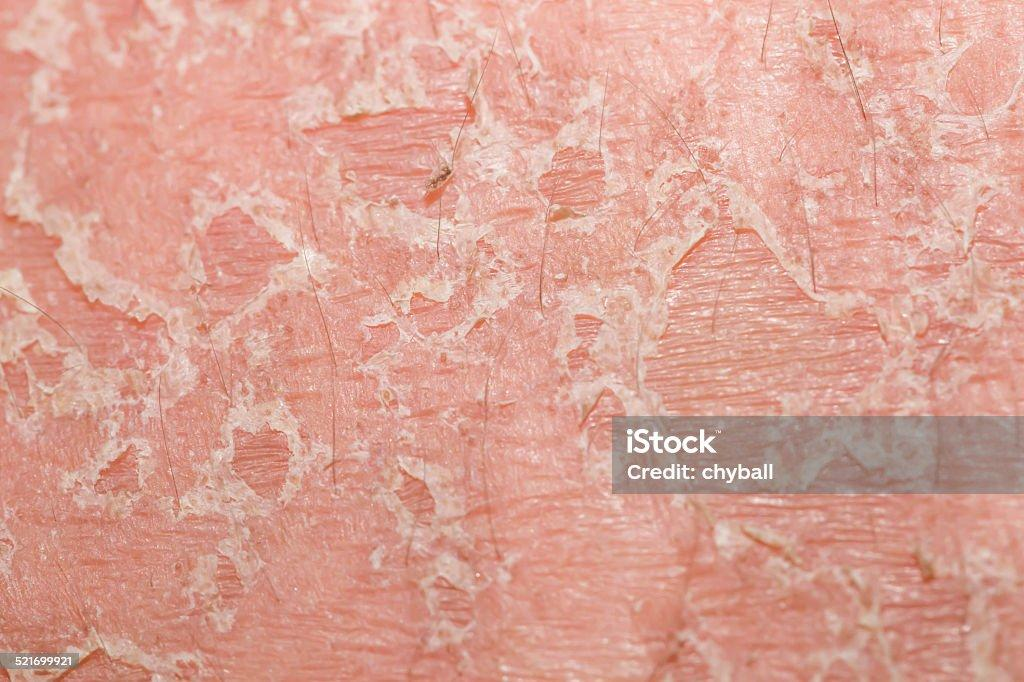Dry-Skin: (3, 168, 343, 682), (688, 121, 1024, 527), (351, 323, 743, 636), (388, 11, 646, 334)
